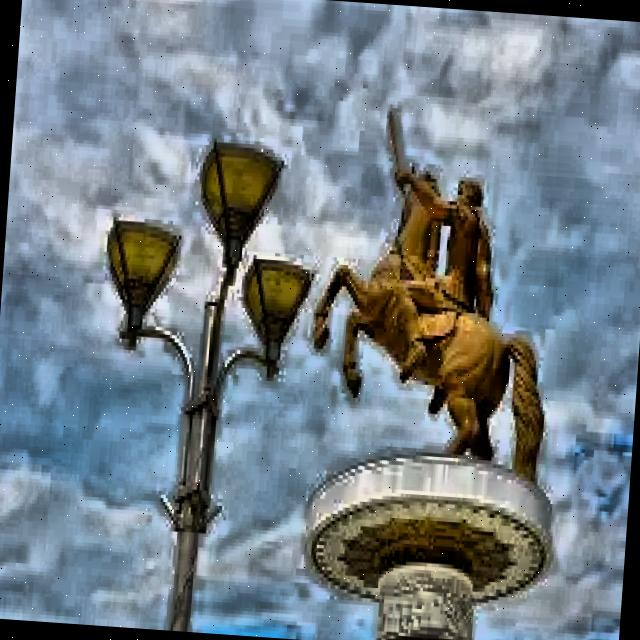alexander the great monument: (293, 97, 586, 640)
